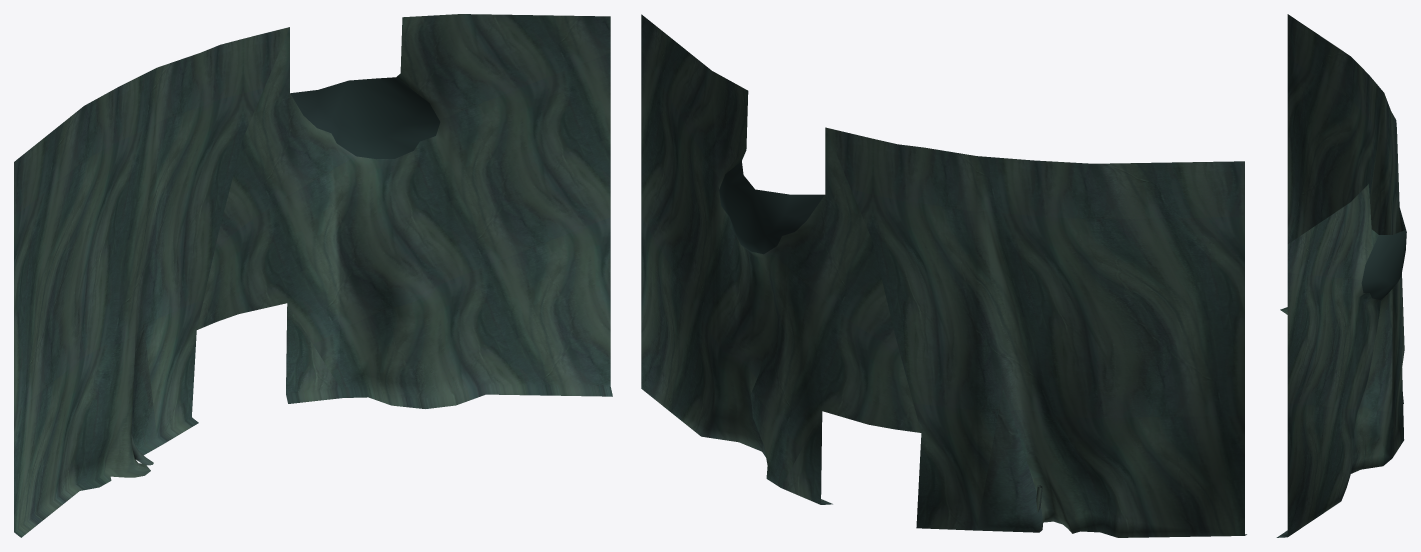
The picture shows the model from 3 angles, left to right: view 1: azimuth 30°, elevation 25°; view 2: azimuth 150°, elevation 25°; view 3: azimuth 270°, elevation 25°; orthographic projection. The views are drawn at different scales.
Parts seen in each view (by area): view 1: dcsi01_modle_05_bj_002; view 2: dcsi01_modle_05_bj_002; view 3: dcsi01_modle_05_bj_002.
Boxes of the visible parts, x1,y1,x2,y2 form: dcsi01_modle_05_bj_002: [14, 14, 612, 537]; dcsi01_modle_05_bj_002: [641, 14, 1246, 537]; dcsi01_modle_05_bj_002: [1276, 14, 1406, 537].
Bounding box in the file's own units: 27.85 × 16.76 × 6.68.
